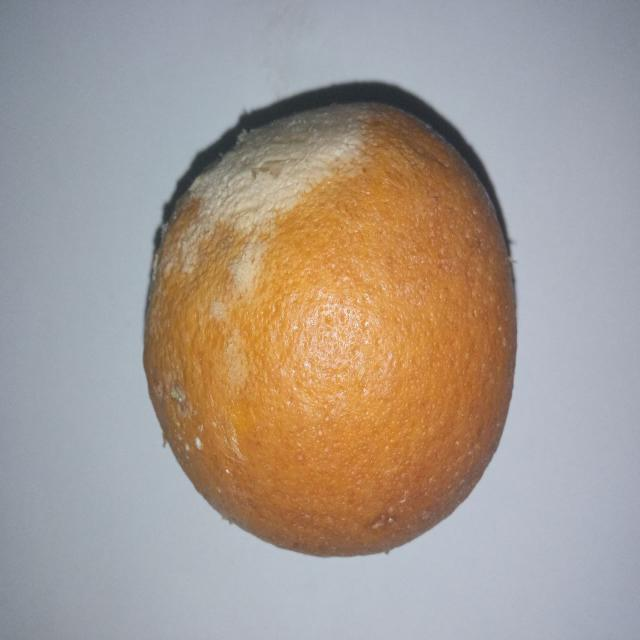rotten_orange: (144, 101, 516, 562)
